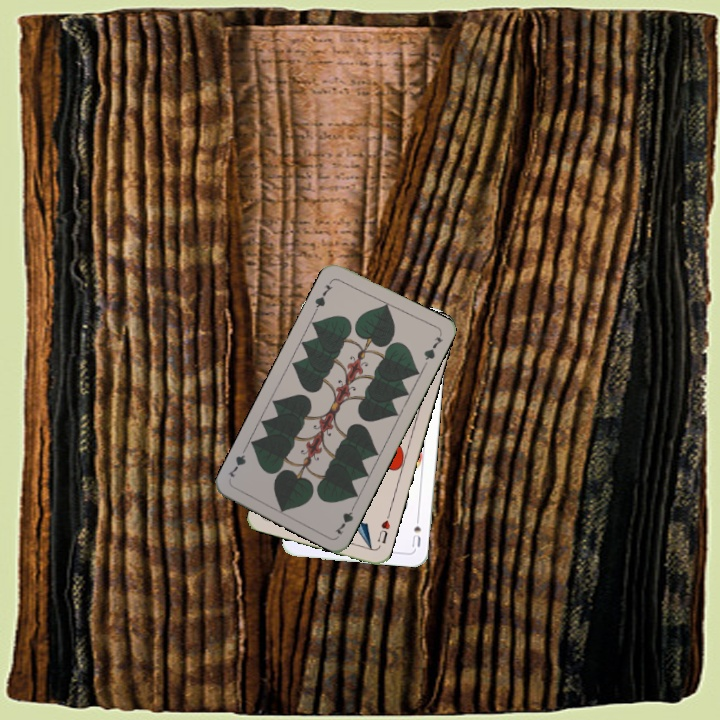G7: (331, 500, 358, 538), (311, 280, 334, 314)
HU: (373, 509, 393, 546)
SU: (408, 510, 424, 550)
